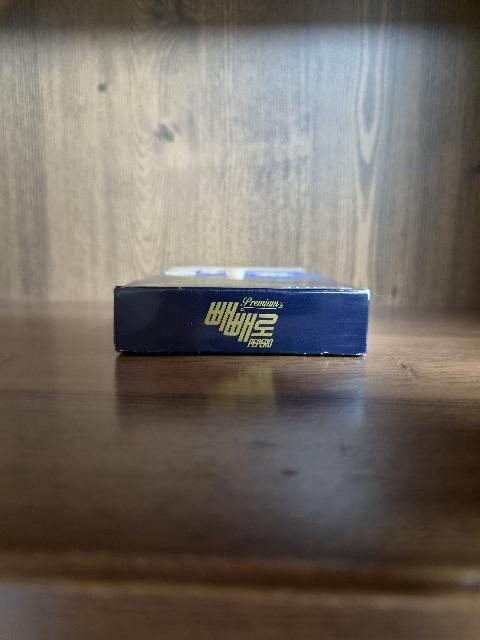pepero: (113, 265, 371, 356)
